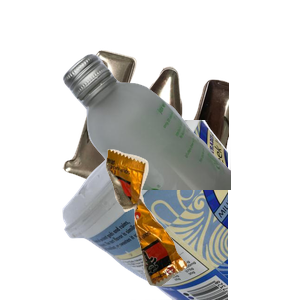glass: (60, 51, 300, 231)
metal: (60, 47, 300, 227)
plastic: (60, 120, 300, 300)
trash: (103, 147, 300, 300)
